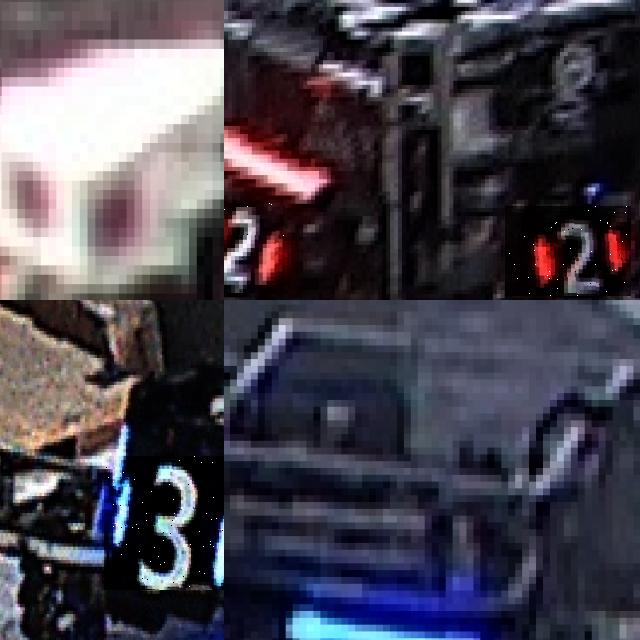B3: (104, 455, 224, 590)
R2: (505, 206, 631, 296), (224, 201, 285, 300)
